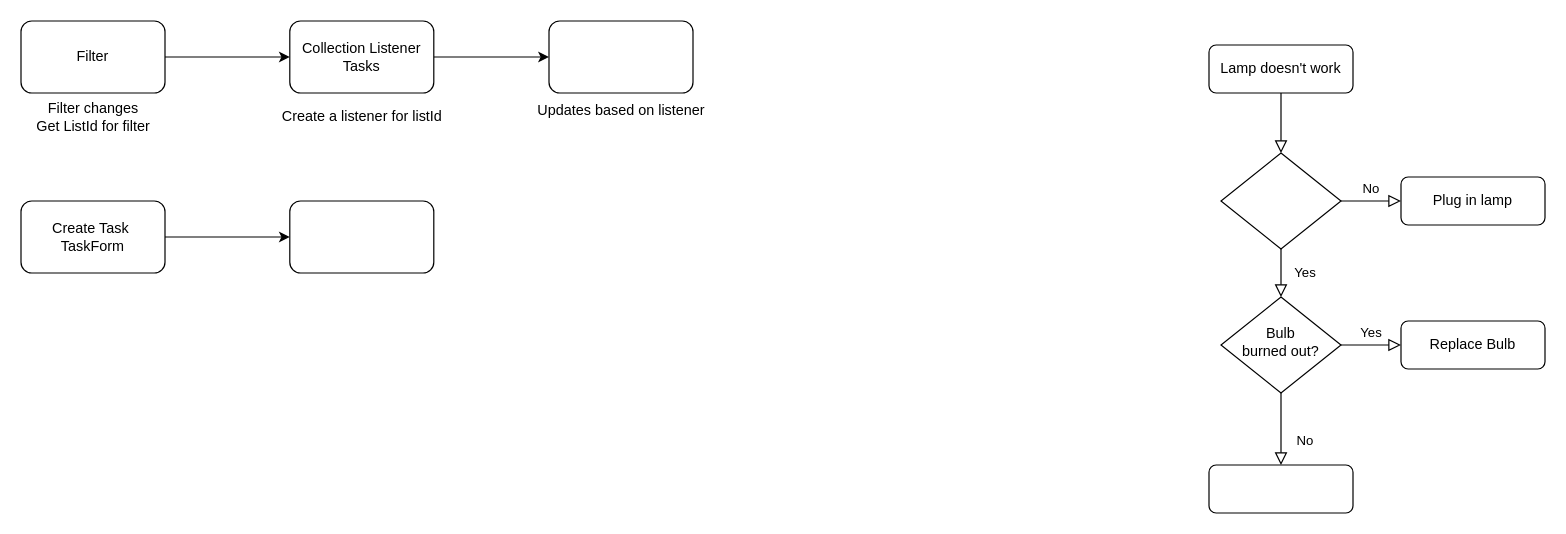
Some shapes in this 1566 by 534 pixel diagram are drawn without their labels. The centre of each missing label's shape, as x and y in pixels:
Include List Id: pixel 361 236
Lamp plugged in?: pixel 1280 200
Repair Lamp: pixel 1280 488
Task List: pixel 620 56
